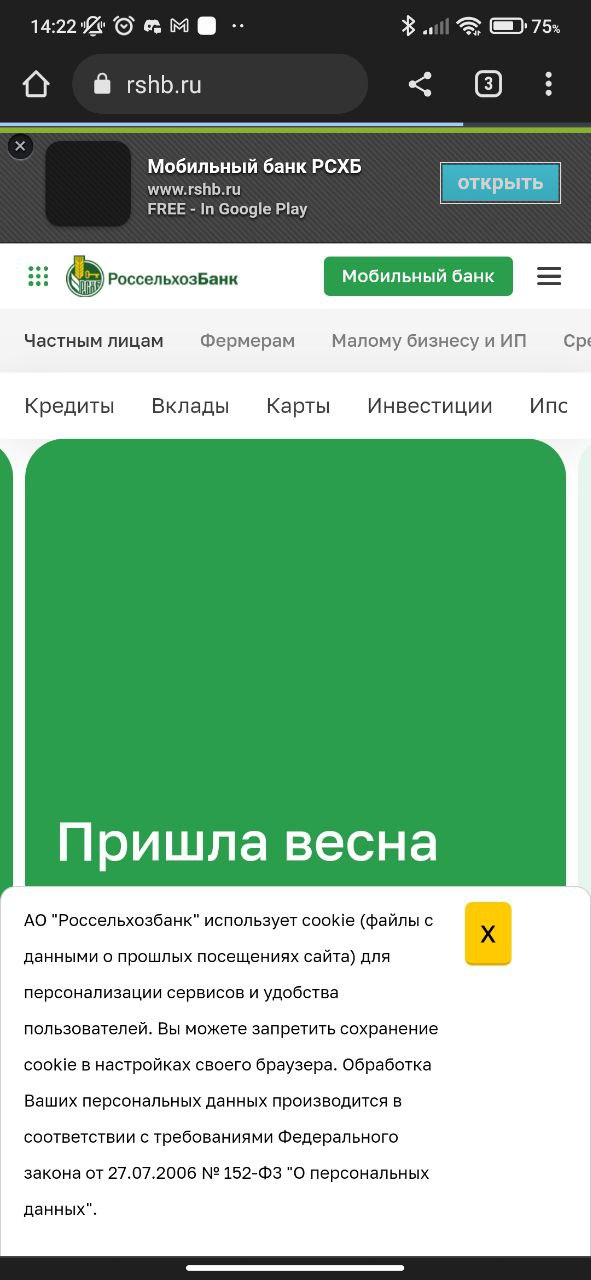burger_menu: (532, 263, 564, 289)
